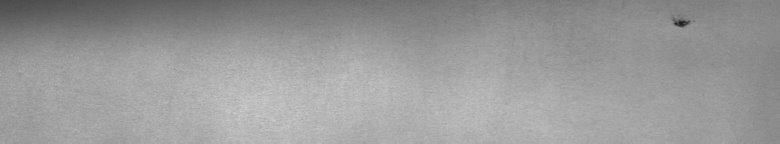fi: (668, 12, 695, 36)
